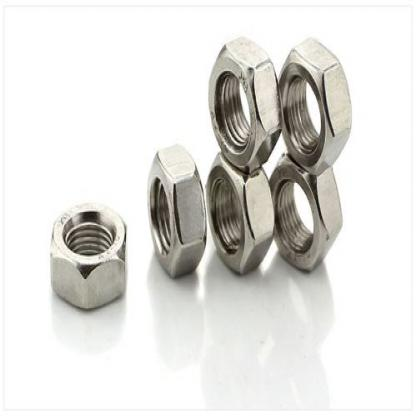FOD: (277, 35, 353, 174), (208, 35, 282, 174), (268, 148, 344, 276), (48, 201, 129, 315), (206, 152, 276, 280), (146, 143, 206, 280)
